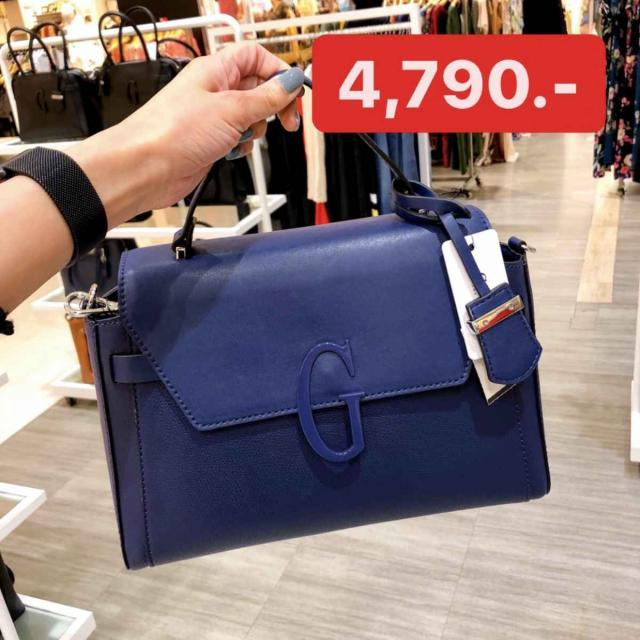handbag: (80, 184, 562, 580)
